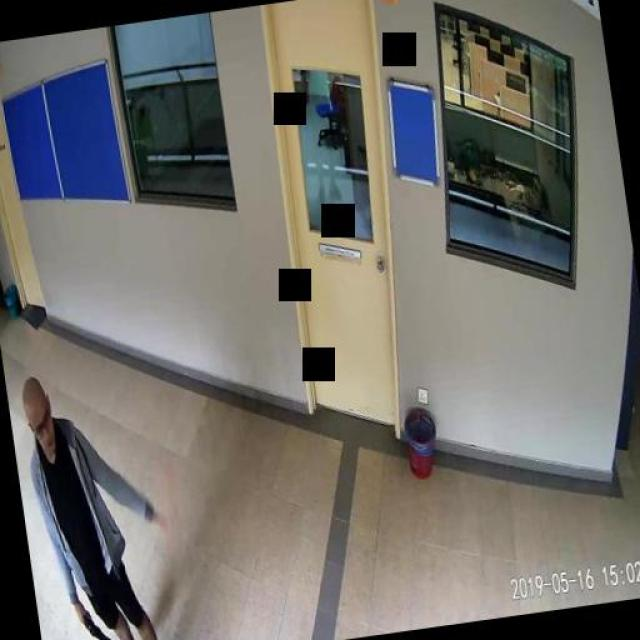gun: (77, 601, 115, 640)
